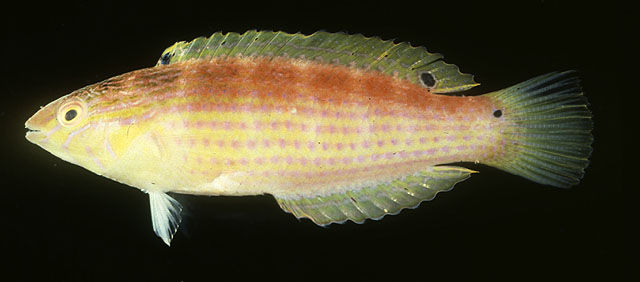fish: (23, 29, 595, 247)
